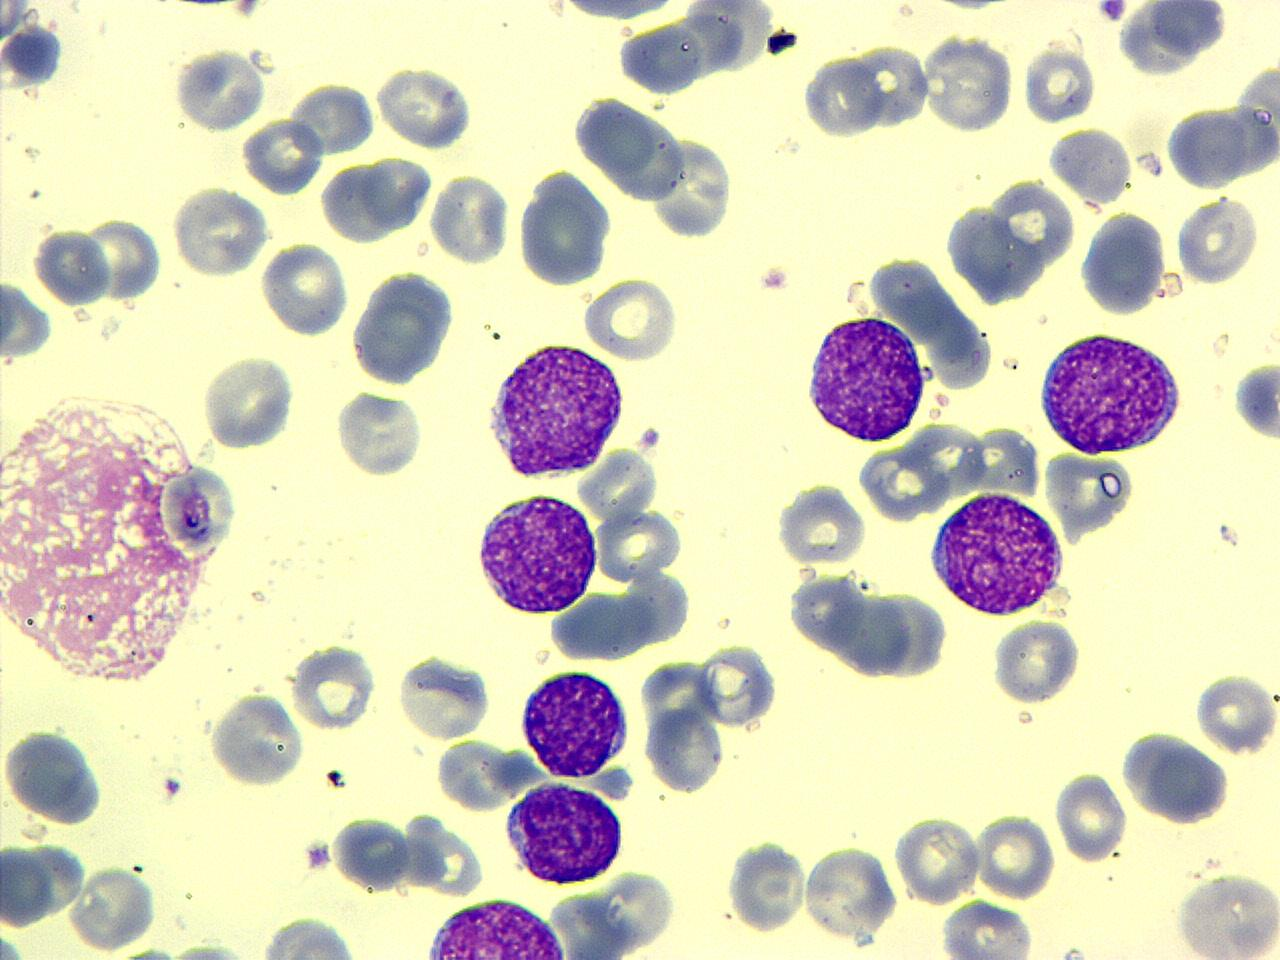Platelets: (1230, 358, 1280, 446), (167, 938, 247, 960), (302, 838, 336, 873), (122, 940, 175, 960), (1094, 0, 1128, 25)
RBC: (572, 92, 690, 206), (516, 167, 614, 289), (2, 728, 110, 828), (1171, 869, 1279, 959), (201, 352, 299, 450), (802, 841, 899, 939), (923, 31, 1015, 134), (650, 133, 736, 242), (172, 183, 270, 278), (209, 690, 304, 788), (258, 239, 350, 340), (372, 61, 476, 150), (396, 650, 494, 742), (1043, 446, 1137, 540), (988, 614, 1084, 706), (581, 276, 682, 363), (334, 388, 427, 482), (173, 44, 269, 133), (725, 835, 809, 936), (1173, 193, 1263, 287), (68, 863, 159, 954), (894, 811, 982, 905), (289, 641, 378, 732), (774, 480, 868, 566), (642, 701, 726, 796), (429, 170, 511, 267), (1044, 123, 1138, 205), (852, 38, 932, 133), (1161, 106, 1249, 192), (1192, 668, 1278, 756), (976, 808, 1057, 901), (1053, 768, 1131, 864), (697, 640, 779, 730), (800, 52, 882, 141), (84, 214, 163, 304), (834, 590, 914, 678), (594, 504, 686, 580), (291, 77, 375, 159), (33, 224, 112, 309), (242, 116, 323, 196), (1021, 41, 1097, 126), (332, 813, 411, 893), (938, 899, 1035, 959), (253, 914, 366, 958), (1, 842, 55, 928), (0, 0, 24, 45)
WBC: (25, 3, 792, 319), (1009, 8, 1280, 446), (0, 388, 238, 690), (484, 338, 627, 484), (1034, 326, 1186, 458), (926, 487, 1072, 619), (940, 172, 1079, 308), (802, 312, 931, 446), (473, 487, 601, 617), (345, 264, 461, 390), (504, 778, 628, 888), (518, 664, 634, 781), (574, 91, 690, 198), (516, 167, 615, 290), (2, 724, 110, 830), (1077, 207, 1171, 319), (417, 896, 574, 960), (1132, 730, 1234, 828), (1113, 2, 1233, 79), (1046, 120, 1134, 208), (612, 20, 708, 99), (1163, 104, 1249, 191), (2, 10, 68, 96)
